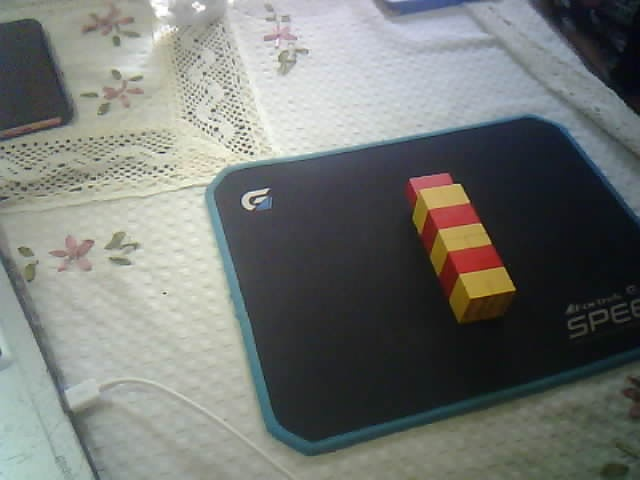lego: (404, 170, 517, 326)
